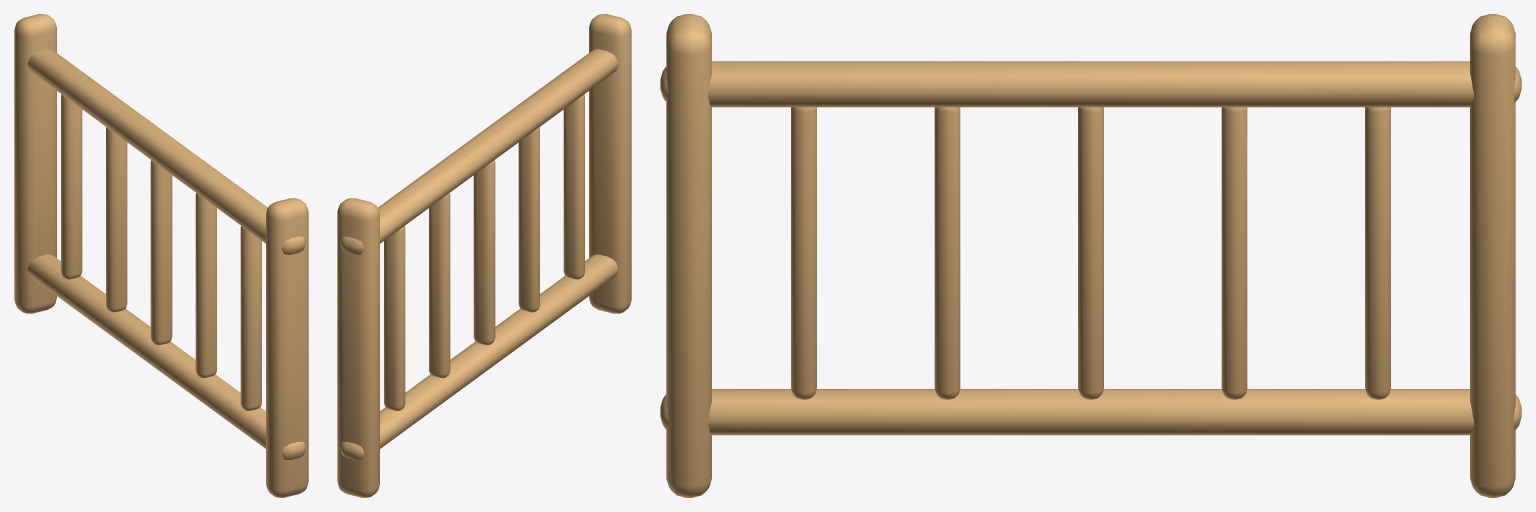
File: ENV_Terrace_Railing_001.fbx
3 views of the same model, side by side, from view 1: azimuth 30°, elevation 25°; view 2: azimuth 150°, elevation 25°; view 3: azimuth 270°, elevation 25° (orthographic). The views are drawn at different scales.
Parts seen in each view (by area): view 1: IMG2_ENV_Terrace_Railing; view 2: IMG2_ENV_Terrace_Railing; view 3: IMG2_ENV_Terrace_Railing.
Boxes of the visible parts, x1,y1,x2,y2 form: IMG2_ENV_Terrace_Railing: (14,14,308,497); IMG2_ENV_Terrace_Railing: (337,14,631,497); IMG2_ENV_Terrace_Railing: (660,14,1521,497).
Size of the model in its own units: 12 by 90 by 150.
